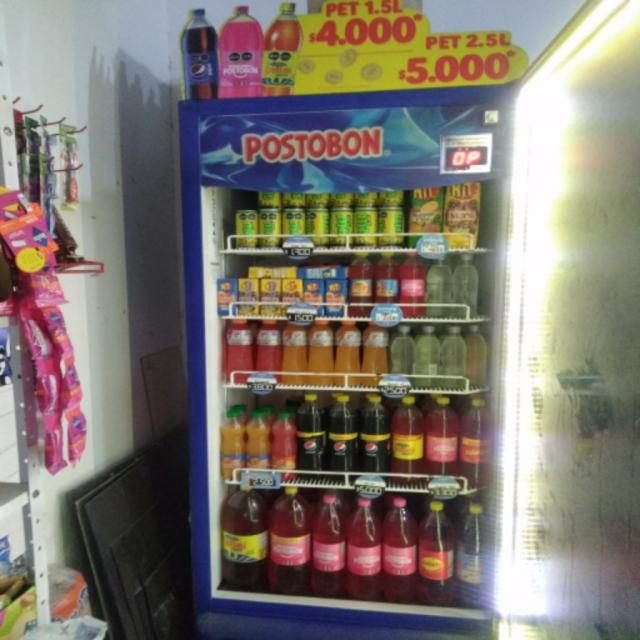Gatorade: (223, 319, 254, 385), (255, 320, 284, 385), (336, 319, 362, 389), (308, 319, 334, 387), (283, 321, 309, 385), (364, 324, 389, 387), (380, 206, 405, 248), (284, 210, 307, 249), (355, 208, 379, 245), (260, 208, 282, 248), (237, 210, 260, 247), (310, 209, 332, 246), (333, 209, 354, 245)
